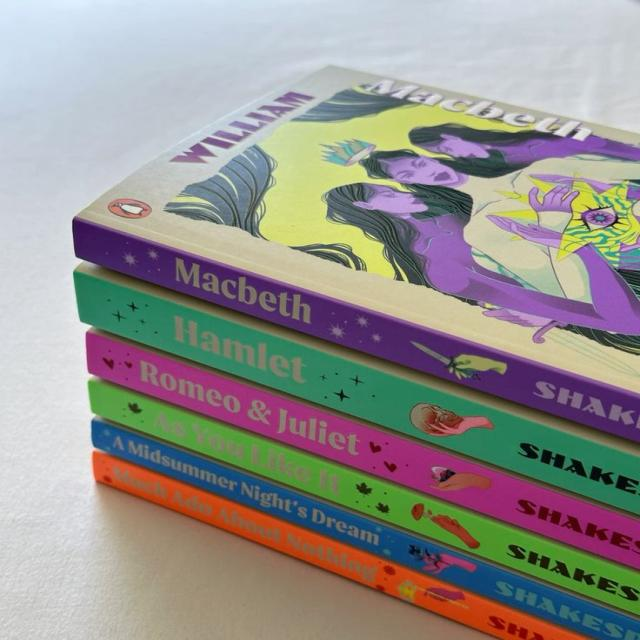book: (74, 268, 639, 514), (87, 332, 639, 568), (89, 382, 639, 616), (75, 220, 640, 443), (91, 419, 639, 639), (92, 449, 590, 639)
